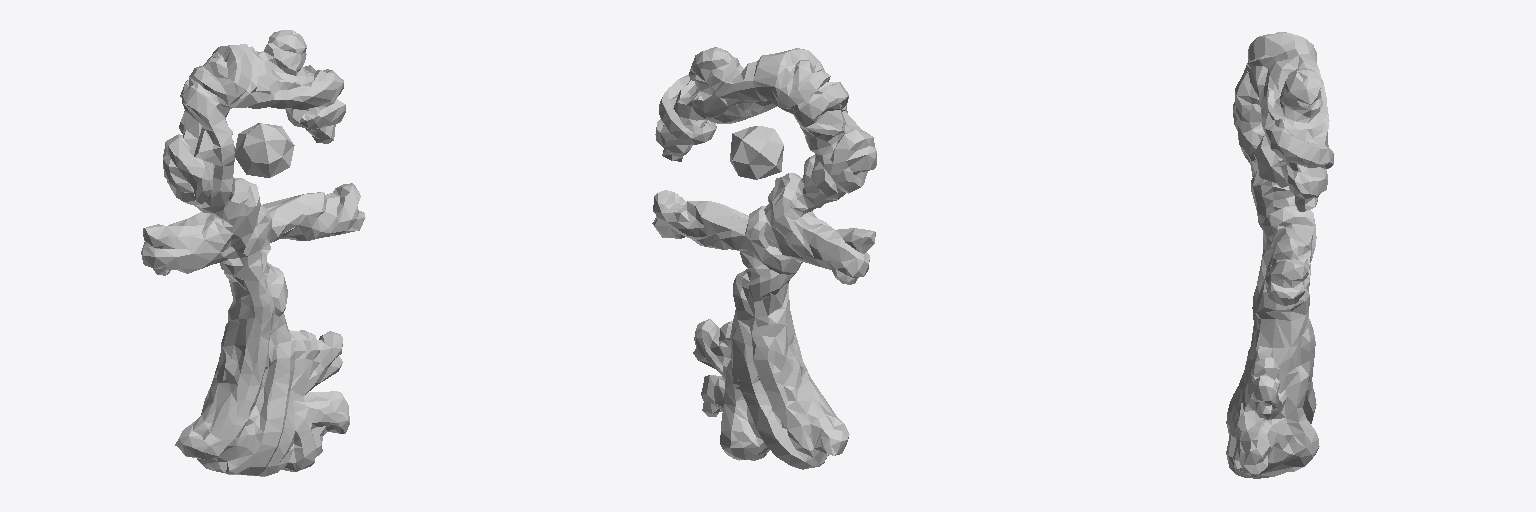
The model's file is key_totem.obj.
3 views of the same model, side by side, from view 1: azimuth 30°, elevation 25°; view 2: azimuth 150°, elevation 25°; view 3: azimuth 270°, elevation 25° (orthographic).
Visible parts, largest first — view 1: KeyTotem.002_Cube.003; view 2: KeyTotem.002_Cube.003; view 3: KeyTotem.002_Cube.003.
Part boxes in pixels (x1,y1,x2,y2): KeyTotem.002_Cube.003: (141,30,365,476); KeyTotem.002_Cube.003: (652,47,876,469); KeyTotem.002_Cube.003: (1226,32,1333,478).
Size of the model in its own units: 1.1 by 2.04 by 0.4702.